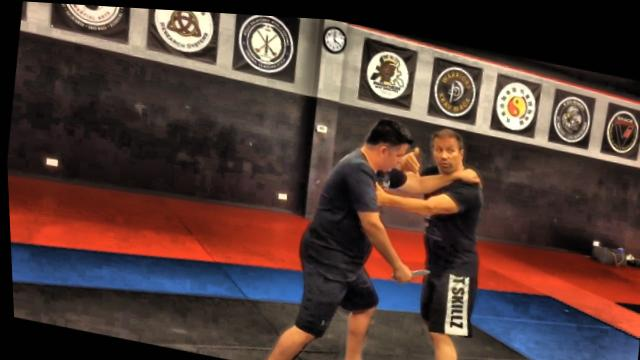knife: (385, 254, 430, 284)
